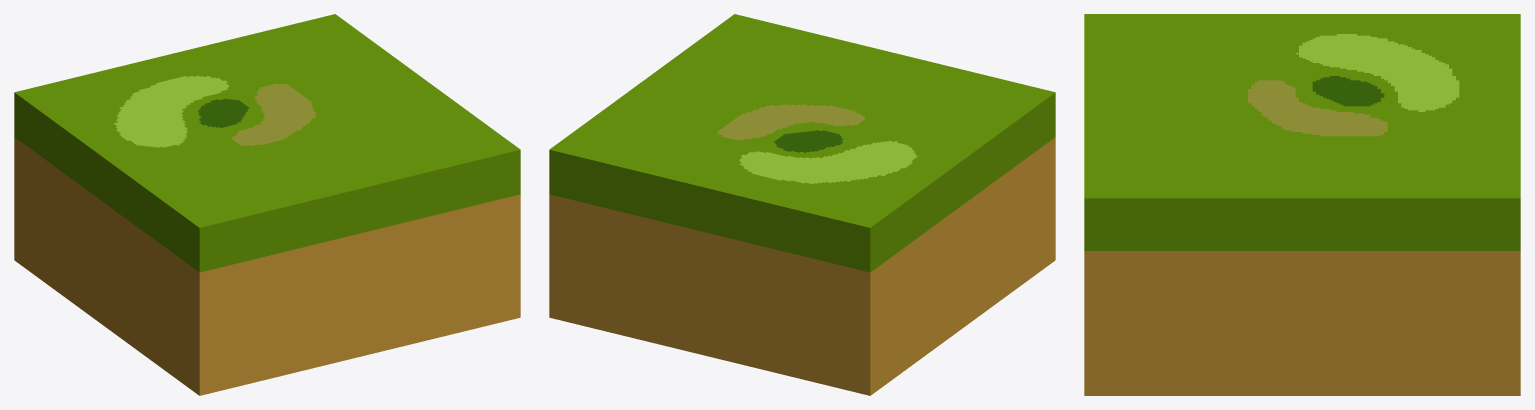
3 renders of one model, left to right at view 1: azimuth 30°, elevation 25°; view 2: azimuth 150°, elevation 25°; view 3: azimuth 270°, elevation 25°, orthographic. The views are drawn at different scales.
Visible parts, largest first — view 1: 6J; view 2: 6J; view 3: 6J.
Boxes of the visible parts, left/top/right/bottom form: 6J: left=14, top=14, right=520, bottom=395; 6J: left=549, top=14, right=1055, bottom=395; 6J: left=1084, top=14, right=1520, bottom=395.
Size of the model in its own units: 12.8 by 6.4 by 12.8.
1 material, 1 textured.
